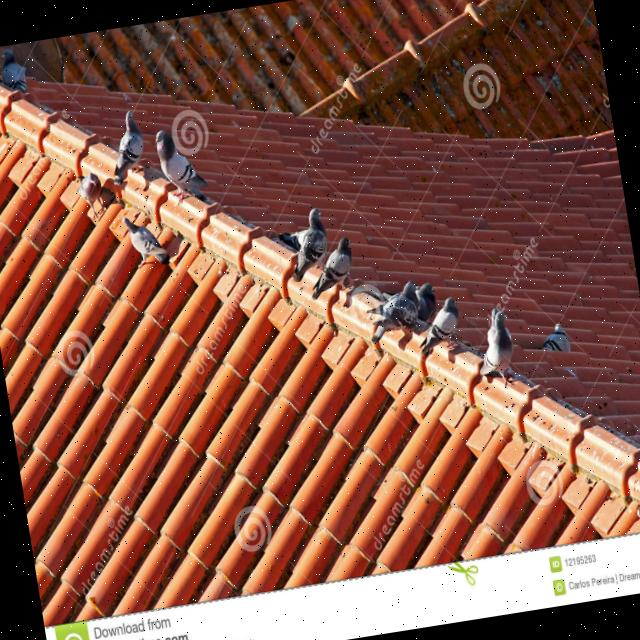bird: (152, 122, 212, 208), (275, 206, 335, 284), (363, 280, 428, 346), (304, 234, 361, 302), (469, 305, 519, 381), (102, 108, 150, 186), (411, 294, 466, 360), (122, 210, 172, 271), (413, 280, 441, 325), (537, 321, 572, 357)
